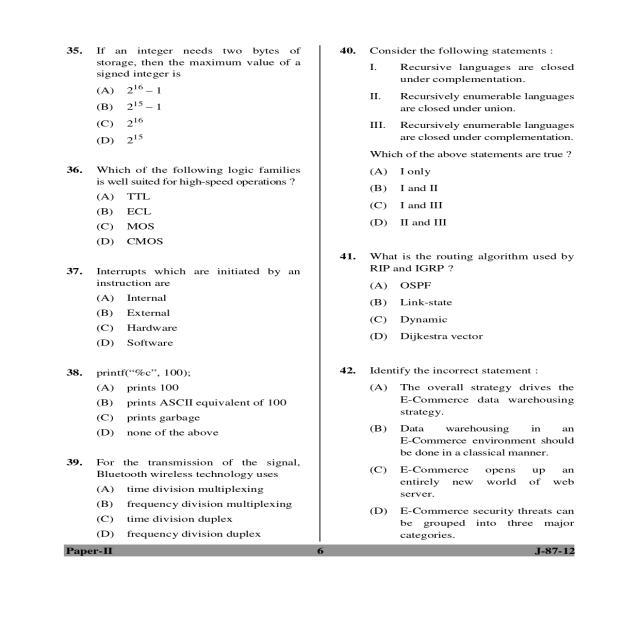Answer_Block: (328, 380, 582, 543), (328, 160, 584, 230), (328, 275, 584, 341), (58, 81, 313, 147), (57, 291, 313, 353), (57, 189, 311, 248), (57, 484, 313, 542), (57, 383, 313, 440)
Question_Answer_Block: (328, 39, 584, 231), (328, 362, 582, 542), (58, 39, 314, 147), (328, 246, 582, 342), (58, 260, 313, 353), (58, 158, 313, 248), (58, 454, 314, 542), (58, 363, 313, 440)
Question_Block: (329, 40, 583, 159), (56, 39, 314, 80), (58, 158, 313, 188), (60, 260, 312, 290), (329, 246, 583, 274), (56, 454, 314, 481), (328, 361, 582, 379), (59, 363, 312, 381)
Question_Paper_Area: (58, 39, 314, 542), (328, 39, 584, 542)
